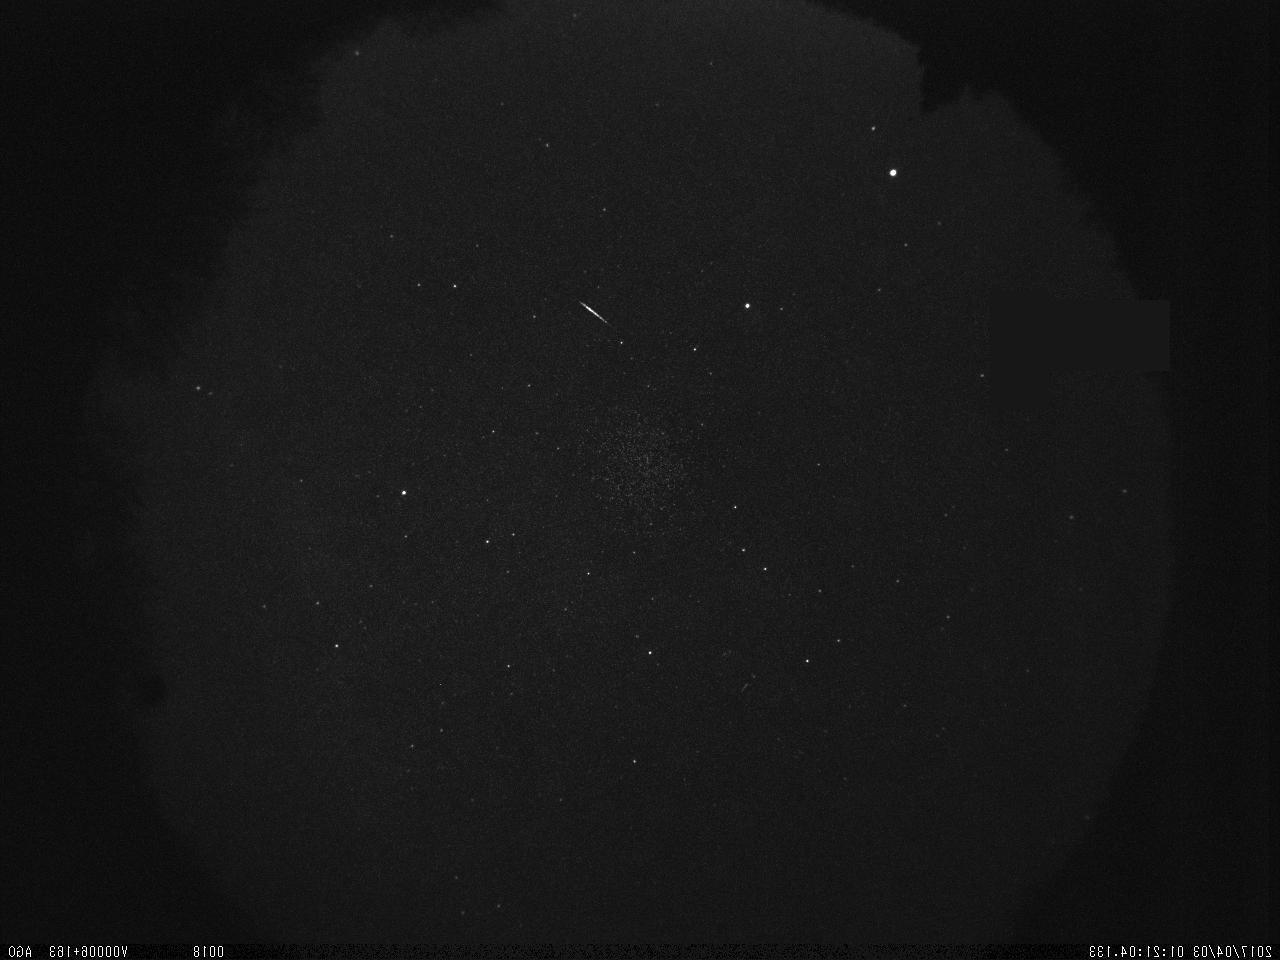meteor: (564, 296, 614, 329)
